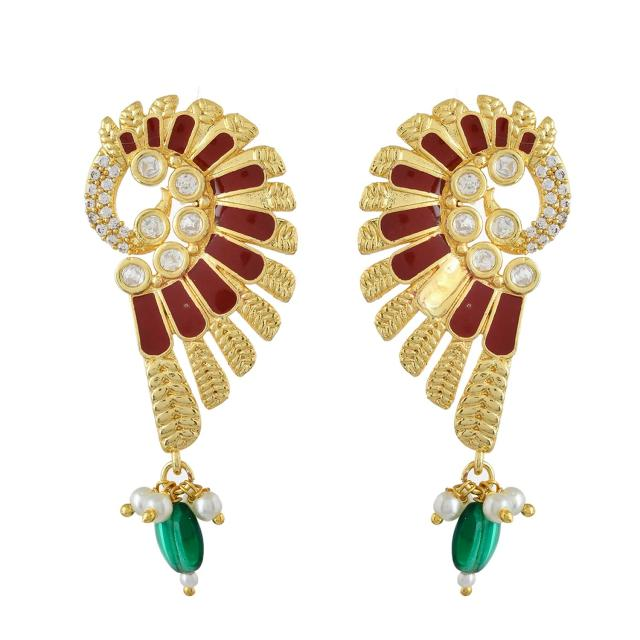missing gem: (417, 257, 468, 317)
